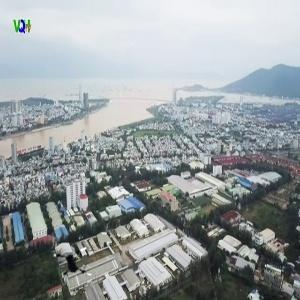drone: (54, 240, 99, 285)
